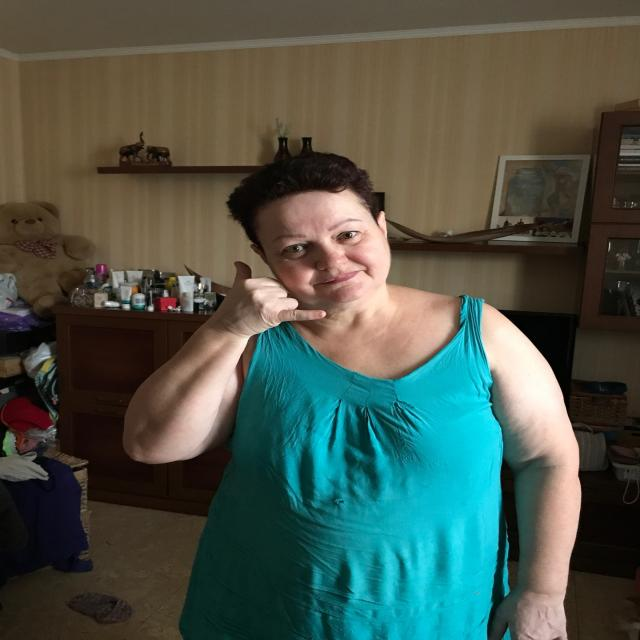call: (211, 258, 330, 341)
